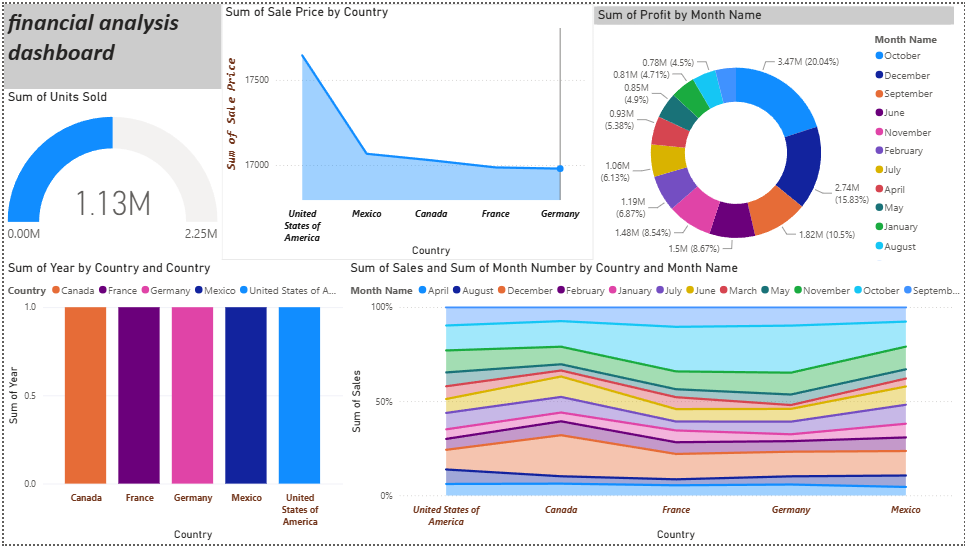

What the dashboard file says about the page in this screenshot:
{"tool":"powerbi","page":{"name":"Page 1","canvas":[1280,720],"ordinal":0},"visuals":[{"type":"textbox","box":[0,0,290,114.3],"z":0},{"type":"donutChart","fields":{"Category":["financials.Month Name"],"Y":["Sum(Sheet1.Profit)"]},"box":[787.1,2.9,480,371.4],"z":1000},{"type":"areaChart","fields":{"Category":["financials.Country"],"Y":["Sum(Sheet1.Sale Price)"]},"box":[290,0,497.1,341.4],"z":2000},{"type":"columnChart","fields":{"Y":["Sum(financials.Year)"],"Category":["financials.Country"],"Series":["financials.Country"]},"box":[0,341.4,457.1,378.6],"z":3000},{"type":"funnel","fields":{"Category":["financials.Country"]},"box":[457.1,341.4,330,378.6],"z":4000},{"type":"hundredPercentStackedAreaChart","fields":{"Category":["financials.Country"],"Y":["Sum(financials.Sales)"],"Series":["Sheet1.Month Name"]},"box":[457.1,341.4,822.9,378.6],"z":5000},{"type":"gauge","fields":{"Y":["Sum(Sheet1.Units Sold)"]},"box":[0,114,290,227],"z":6000}]}

Visuals, with their boxes in screenshot pixels (x1, y1, x2, y2), scaled from the page's 1280x720 canvas onto the 967x551 screenshot:
textbox: Rect(0, 0, 219, 87)
donutChart - financials.Month Name x Sum(Sheet1.Profit): Rect(595, 2, 957, 286)
areaChart - financials.Country x Sum(Sheet1.Sale Price): Rect(219, 0, 595, 261)
columnChart - Sum(financials.Year) x financials.Country: Rect(0, 261, 345, 550)
funnel - financials.Country: Rect(345, 261, 595, 550)
hundredPercentStackedAreaChart - financials.Country x Sum(financials.Sales): Rect(345, 261, 966, 550)
gauge - Sum(Sheet1.Units Sold): Rect(0, 87, 219, 261)
